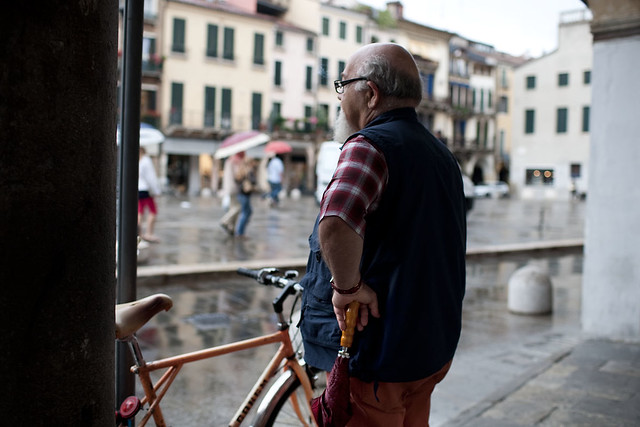backpack: (137, 147, 161, 230), (231, 154, 255, 229), (242, 156, 263, 221), (229, 154, 256, 195), (249, 159, 273, 202), (266, 153, 283, 203), (218, 206, 239, 235), (268, 157, 281, 189), (264, 159, 277, 191), (239, 169, 255, 193), (230, 155, 245, 180)
banana: (340, 301, 358, 353)
bench: (132, 244, 504, 411), (91, 269, 320, 423), (136, 240, 178, 264)
bicycle: (17, 154, 561, 422), (266, 86, 463, 424), (167, 175, 395, 421), (143, 264, 472, 427), (105, 267, 321, 424), (252, 281, 448, 395), (218, 267, 343, 422), (270, 253, 366, 427), (292, 210, 347, 407), (234, 333, 317, 426), (309, 278, 362, 421), (272, 275, 304, 368)
bottle: (289, 258, 357, 423), (325, 294, 360, 421), (136, 145, 161, 242), (336, 300, 360, 375), (341, 300, 358, 350), (115, 393, 141, 424)
car: (289, 62, 472, 425), (216, 248, 535, 408), (428, 140, 487, 215), (140, 127, 225, 164), (453, 152, 503, 210), (137, 126, 166, 223), (105, 122, 164, 158), (136, 121, 169, 179), (137, 123, 191, 156), (464, 177, 510, 212), (459, 163, 490, 212), (461, 168, 507, 200), (454, 157, 480, 207), (122, 122, 164, 146), (469, 163, 502, 192), (459, 167, 477, 217), (138, 122, 164, 156), (142, 120, 182, 140), (249, 139, 292, 157), (460, 173, 489, 199), (471, 180, 508, 199), (463, 166, 483, 191), (460, 172, 475, 201), (139, 124, 160, 144), (139, 118, 162, 136), (471, 180, 492, 198), (490, 181, 509, 198), (470, 163, 484, 184)
cell phone: (113, 293, 172, 339)
chair: (289, 62, 472, 425), (211, 257, 521, 426), (91, 269, 320, 423), (250, 266, 373, 421), (232, 272, 316, 425), (229, 369, 315, 424)
clock: (113, 293, 173, 339), (116, 395, 139, 418)
fork: (325, 300, 361, 413), (340, 300, 359, 350)
hair drier: (113, 292, 172, 338), (116, 395, 140, 418)
handbag: (295, 54, 450, 421), (269, 84, 390, 407), (276, 239, 417, 406), (236, 259, 333, 423), (307, 128, 386, 300), (297, 201, 361, 402), (302, 173, 357, 312), (309, 278, 362, 421), (295, 242, 339, 396), (305, 221, 354, 351), (299, 208, 337, 332), (319, 309, 354, 426), (137, 147, 161, 230), (231, 154, 255, 229), (223, 154, 244, 220), (216, 162, 237, 228), (242, 156, 263, 221), (219, 185, 243, 238), (136, 187, 156, 242), (137, 170, 157, 220), (263, 154, 282, 202), (248, 156, 268, 200), (240, 159, 261, 195), (145, 155, 164, 194), (217, 205, 240, 235), (233, 161, 252, 194), (135, 159, 151, 198), (231, 174, 255, 199), (231, 154, 247, 185), (152, 166, 167, 195), (138, 193, 155, 218), (136, 177, 155, 199), (269, 158, 281, 192), (251, 163, 265, 191), (239, 169, 255, 193), (265, 157, 278, 186), (244, 167, 260, 190), (149, 156, 161, 186), (260, 161, 271, 193), (218, 216, 235, 235), (137, 197, 149, 222), (137, 172, 148, 195), (137, 189, 150, 208), (236, 178, 252, 193), (218, 191, 229, 211), (137, 182, 149, 197)
hot dog: (340, 300, 359, 350)
knife: (325, 300, 361, 413), (336, 300, 360, 375), (341, 300, 358, 350)
motorcycle: (289, 62, 472, 425), (216, 248, 535, 408)
parking meter: (138, 121, 164, 172)
person: (130, 51, 452, 423), (38, 43, 258, 427), (0, 0, 160, 427), (297, 44, 471, 421), (250, 181, 497, 426), (242, 84, 382, 420), (154, 193, 335, 427), (209, 155, 321, 393), (254, 103, 346, 314), (245, 204, 338, 407), (218, 140, 301, 298), (310, 119, 384, 280), (289, 258, 357, 423), (296, 116, 351, 320), (315, 288, 361, 423), (219, 154, 272, 256), (300, 151, 340, 277), (237, 151, 276, 238), (213, 128, 264, 194), (216, 174, 254, 261), (314, 115, 346, 205), (228, 151, 260, 239), (300, 123, 333, 203), (254, 150, 286, 229), (136, 144, 161, 243), (279, 136, 317, 201), (221, 149, 249, 230), (265, 146, 302, 203), (137, 121, 164, 196), (173, 151, 214, 200), (205, 144, 234, 212), (165, 151, 199, 206), (236, 143, 267, 199), (192, 151, 221, 209), (230, 184, 254, 249), (309, 118, 333, 181), (215, 154, 237, 222), (256, 148, 287, 193), (242, 156, 263, 221), (136, 185, 157, 240), (299, 143, 319, 199), (257, 154, 277, 205), (181, 153, 203, 199), (136, 153, 159, 197), (137, 170, 157, 220), (265, 153, 284, 205), (289, 152, 310, 199), (220, 165, 241, 212), (223, 152, 243, 201), (459, 167, 477, 217), (215, 198, 238, 236), (279, 154, 297, 201), (274, 152, 292, 199), (168, 156, 187, 196), (240, 159, 261, 195), (197, 152, 213, 199), (253, 156, 269, 203), (234, 153, 254, 190), (215, 162, 230, 211), (285, 158, 302, 200), (488, 159, 508, 194), (212, 155, 226, 204), (229, 152, 246, 190), (468, 161, 493, 186), (176, 157, 190, 195), (172, 168, 188, 201), (164, 167, 181, 198), (465, 168, 484, 195), (165, 154, 181, 186), (496, 161, 511, 195), (210, 156, 222, 192), (187, 163, 199, 198), (282, 162, 294, 195), (206, 159, 218, 192), (568, 165, 579, 197), (295, 162, 306, 194), (247, 157, 259, 185), (289, 173, 301, 201), (214, 158, 224, 191), (278, 164, 288, 197), (200, 172, 212, 198), (261, 159, 271, 189), (470, 164, 483, 184), (496, 160, 507, 183), (493, 158, 504, 181), (566, 169, 575, 197), (313, 125, 324, 147), (433, 129, 446, 145)
potted plant: (0, 0, 160, 427)
remote: (113, 293, 172, 339), (341, 300, 358, 350), (344, 300, 358, 329)
scissors: (325, 300, 361, 413), (112, 292, 172, 338)
skateboard: (136, 158, 162, 251), (137, 198, 161, 257), (136, 231, 166, 263), (217, 205, 239, 235), (137, 232, 161, 243)
spoon: (325, 300, 361, 413), (341, 300, 358, 350)
sports ball: (116, 395, 141, 419)
suitcase: (217, 205, 240, 235)
tennis racket: (91, 269, 320, 423), (274, 231, 361, 423), (237, 258, 337, 417), (315, 288, 361, 423)
tie: (325, 300, 361, 413), (317, 330, 353, 427), (336, 300, 360, 375), (341, 300, 358, 350)
toothbrush: (324, 299, 361, 414), (111, 292, 173, 337), (336, 300, 360, 375), (341, 300, 358, 350)
traffic light: (255, 0, 288, 16), (530, 168, 554, 186), (267, 101, 281, 130), (527, 169, 546, 185), (568, 163, 580, 180), (542, 169, 553, 186)
train: (0, 0, 164, 427)
truck: (0, 0, 164, 427), (471, 180, 509, 199)
umbrella: (214, 134, 271, 201), (254, 136, 310, 199), (161, 125, 255, 158), (267, 122, 319, 171), (218, 133, 283, 172), (249, 135, 315, 167), (236, 129, 308, 158), (222, 142, 265, 185), (214, 129, 270, 158), (252, 138, 294, 176), (138, 121, 164, 172), (262, 141, 304, 168), (241, 138, 292, 160), (246, 145, 290, 168), (265, 142, 289, 184), (225, 139, 270, 160), (286, 150, 306, 197), (265, 152, 284, 201), (268, 121, 315, 140), (268, 133, 315, 152), (213, 142, 254, 163), (341, 300, 358, 350), (287, 143, 312, 176), (226, 130, 269, 148), (263, 152, 294, 176), (281, 139, 311, 163), (264, 139, 306, 156), (138, 122, 164, 148), (267, 130, 314, 144), (198, 152, 213, 194), (241, 133, 269, 153), (262, 143, 291, 162), (259, 140, 291, 154), (244, 143, 272, 158), (254, 142, 280, 158), (281, 151, 306, 166), (271, 140, 299, 153), (267, 155, 283, 177), (243, 146, 266, 161), (288, 146, 308, 163), (258, 148, 286, 160), (266, 138, 293, 150), (282, 141, 311, 152), (264, 152, 286, 166)
vase: (325, 294, 360, 421)
wine glass: (91, 269, 320, 423), (250, 266, 373, 421), (230, 265, 315, 425), (325, 299, 361, 419)
